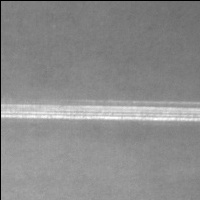scratches: (1, 100, 200, 123)
